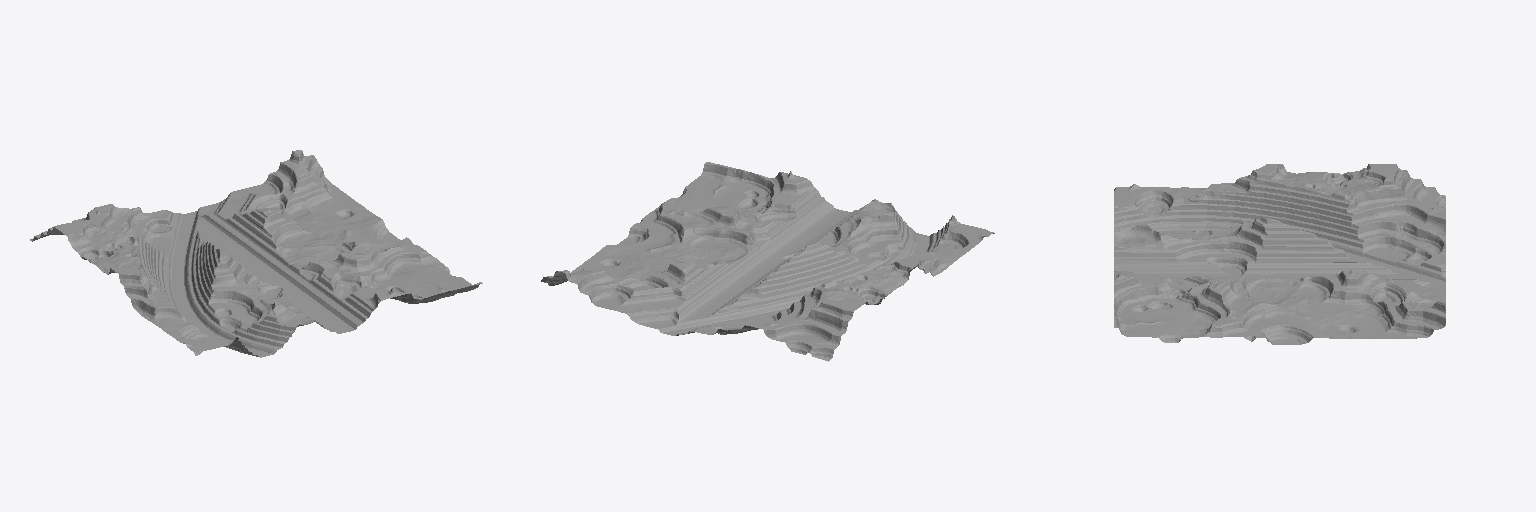
The picture shows the model from 3 angles: view 1: azimuth 30°, elevation 25°; view 2: azimuth 150°, elevation 25°; view 3: azimuth 270°, elevation 25°; orthographic projection.
Visible parts, largest first — view 1: O5_TerrainMesh.011; view 2: O5_TerrainMesh.011; view 3: O5_TerrainMesh.011.
Boxes of the visible parts, box(x1,y1,x2,y2) form: O5_TerrainMesh.011: box(30, 150, 482, 357); O5_TerrainMesh.011: box(541, 162, 994, 361); O5_TerrainMesh.011: box(1114, 164, 1445, 344).
Size of the model in its own units: 1 by 0.1464 by 1.